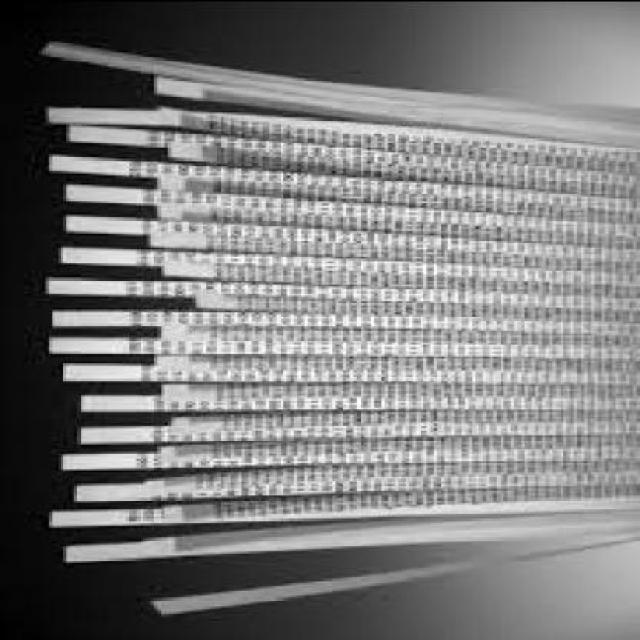PAPER: (44, 38, 638, 617)
